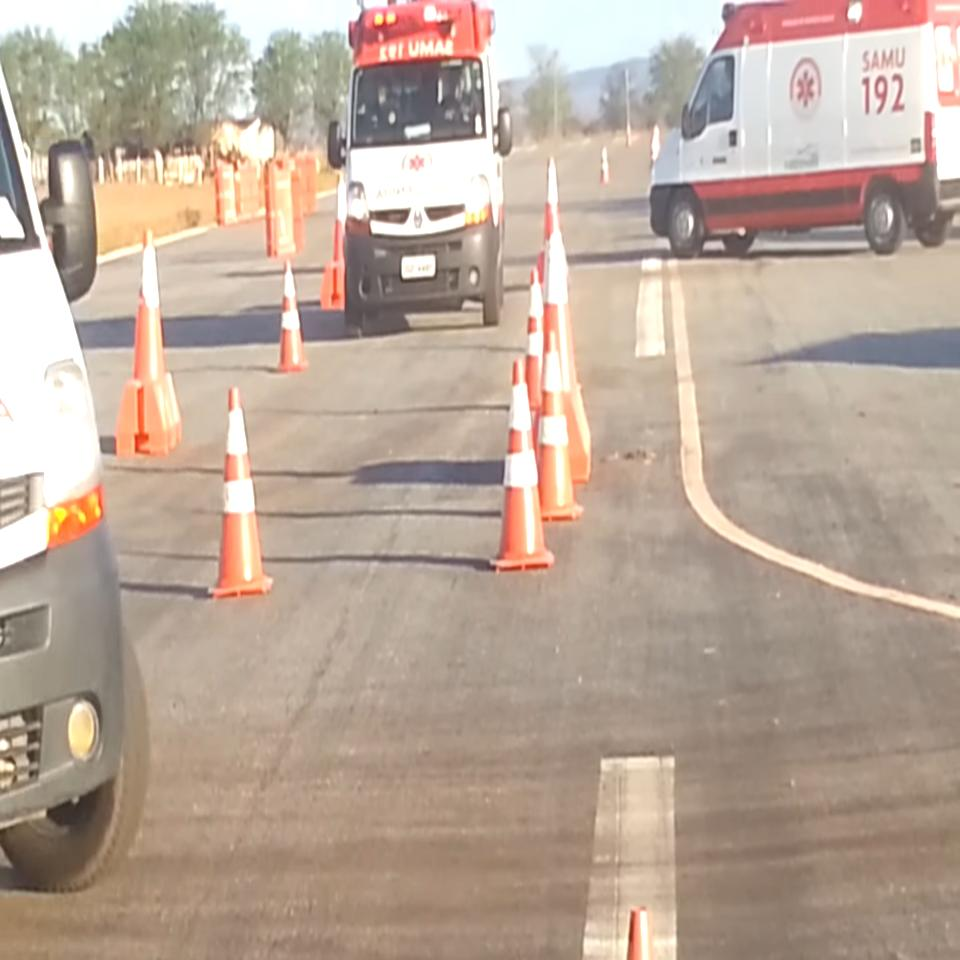ambulancia: (648, 0, 960, 265), (324, 0, 516, 321)
